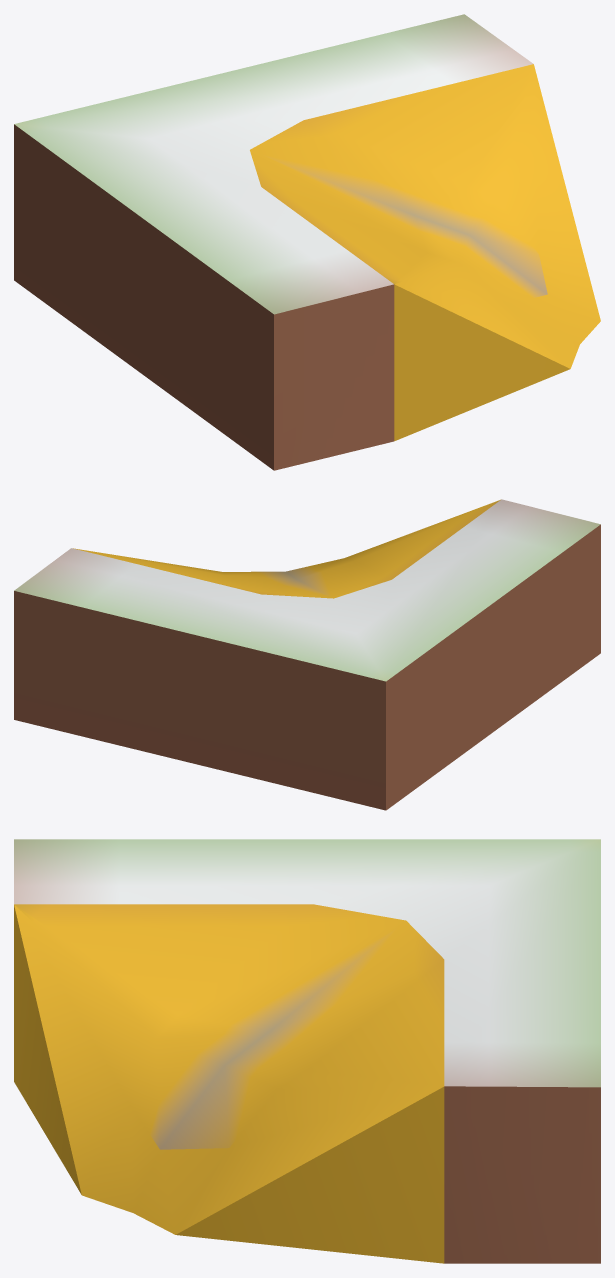
File: Shore.Corner.C.Snow.glb
The picture shows the model from 3 angles, top to bottom: view 1: azimuth 30°, elevation 25°; view 2: azimuth 150°, elevation 25°; view 3: azimuth 270°, elevation 25°; orthographic projection. The views are drawn at different scales.
Visible parts, largest first — view 1: Shore.Corner.C.Snow; view 2: Shore.Corner.C.Snow; view 3: Shore.Corner.C.Snow.
Part boxes in pixels (box(x1,y1,x2,y2)): Shore.Corner.C.Snow: box(14, 14, 600, 470); Shore.Corner.C.Snow: box(14, 499, 600, 810); Shore.Corner.C.Snow: box(14, 839, 600, 1263).
Bounding box in the file's own units: 3 × 1 × 3.
Materials: 1 (1 with a texture image).
